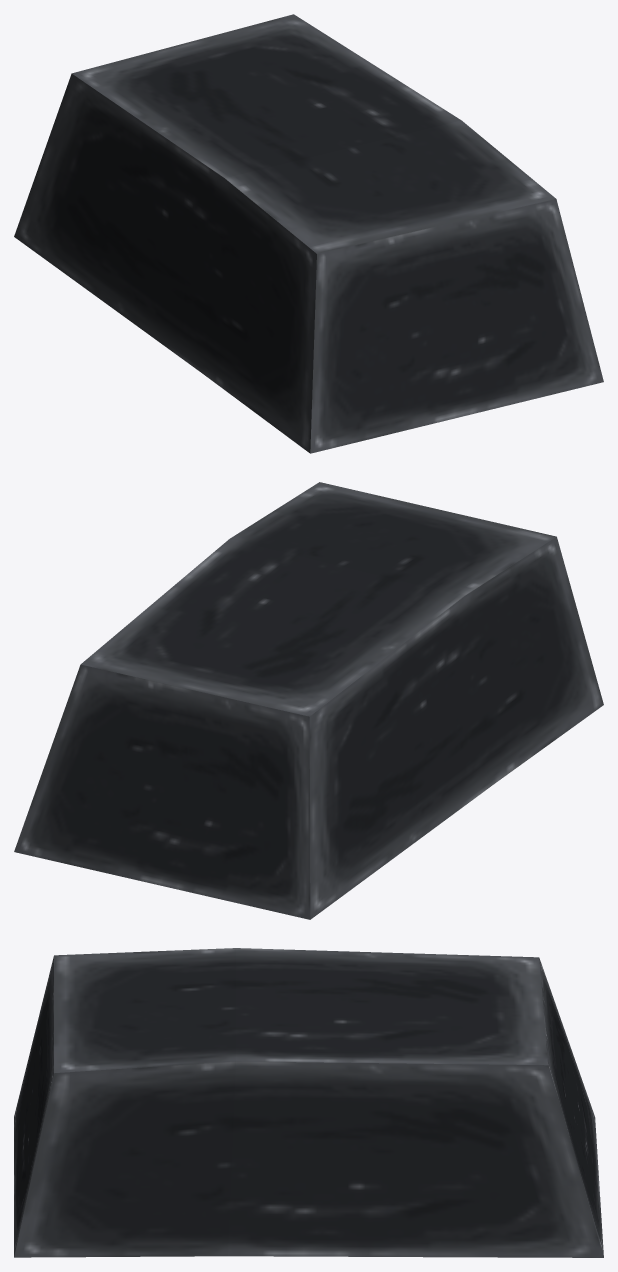
File: SM_PROP_ingot_iron_city.fbx
The picture shows the model from 3 angles, top to bottom: view 1: azimuth 30°, elevation 25°; view 2: azimuth 150°, elevation 25°; view 3: azimuth 270°, elevation 25°; orthographic projection.
Visible parts, largest first — view 1: SM_PROP_ingot_iron_city; view 2: SM_PROP_ingot_iron_city; view 3: SM_PROP_ingot_iron_city.
Boxes of the visible parts, x1=… form: SM_PROP_ingot_iron_city: x1=14, y1=14, x2=603, y2=453; SM_PROP_ingot_iron_city: x1=14, y1=482, x2=603, y2=919; SM_PROP_ingot_iron_city: x1=14, y1=948, x2=603, y2=1257.
Bounding box in the file's own units: 17.95 × 10.83 × 31.78.
